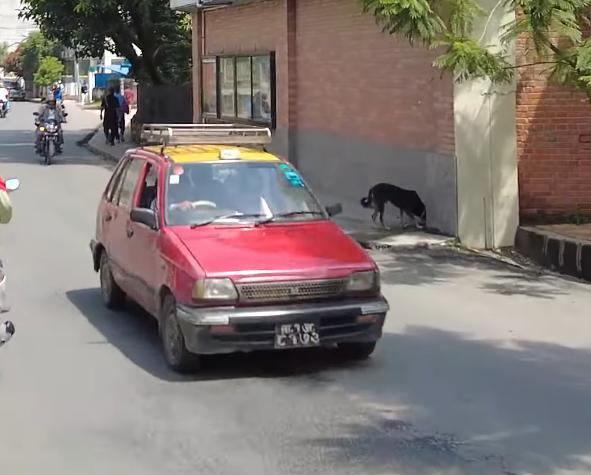bike: (31, 111, 71, 170)
taxi: (89, 120, 395, 374)
